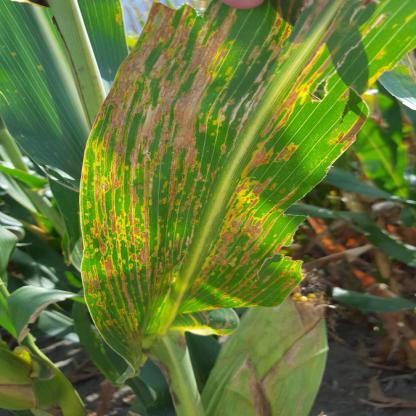Corn leaf blight: (89, 11, 376, 366)
